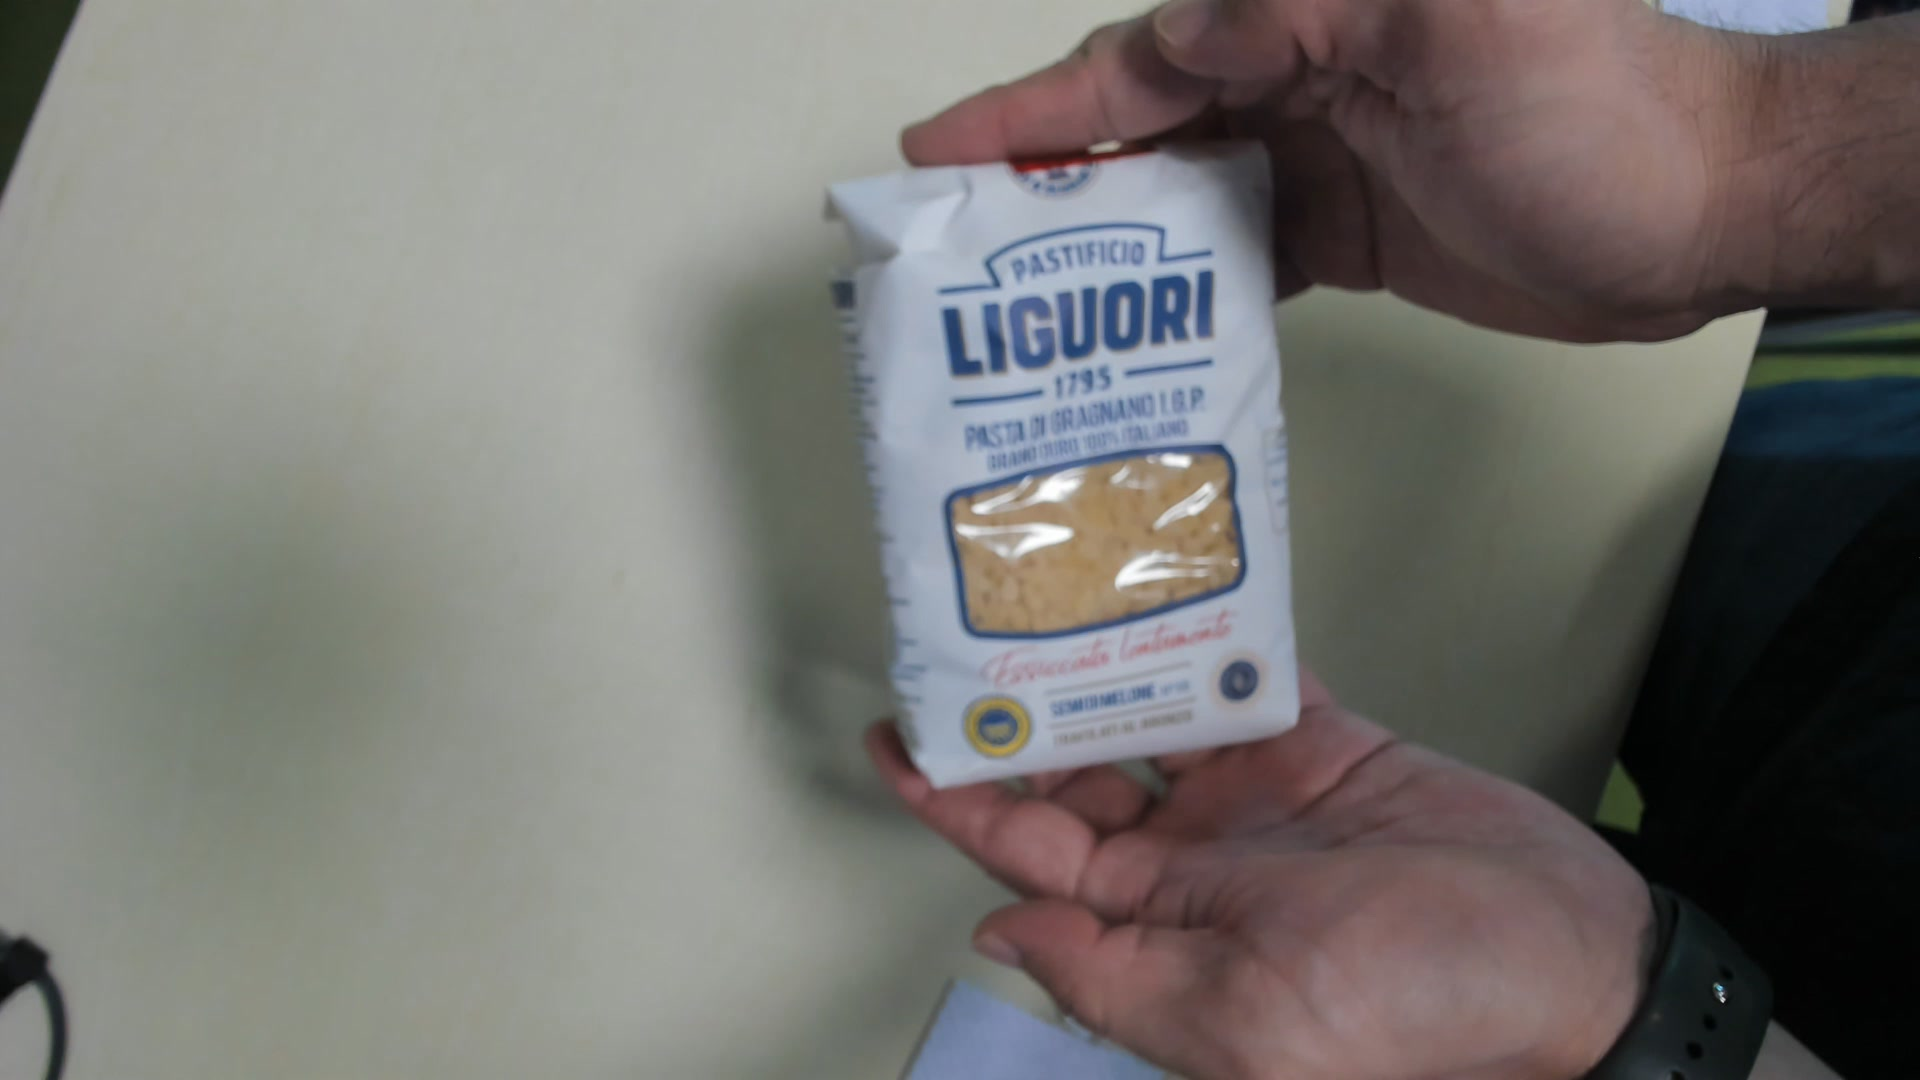Pasta_500-599g_NonHalal_NonHealthy: (827, 145, 1300, 774)
